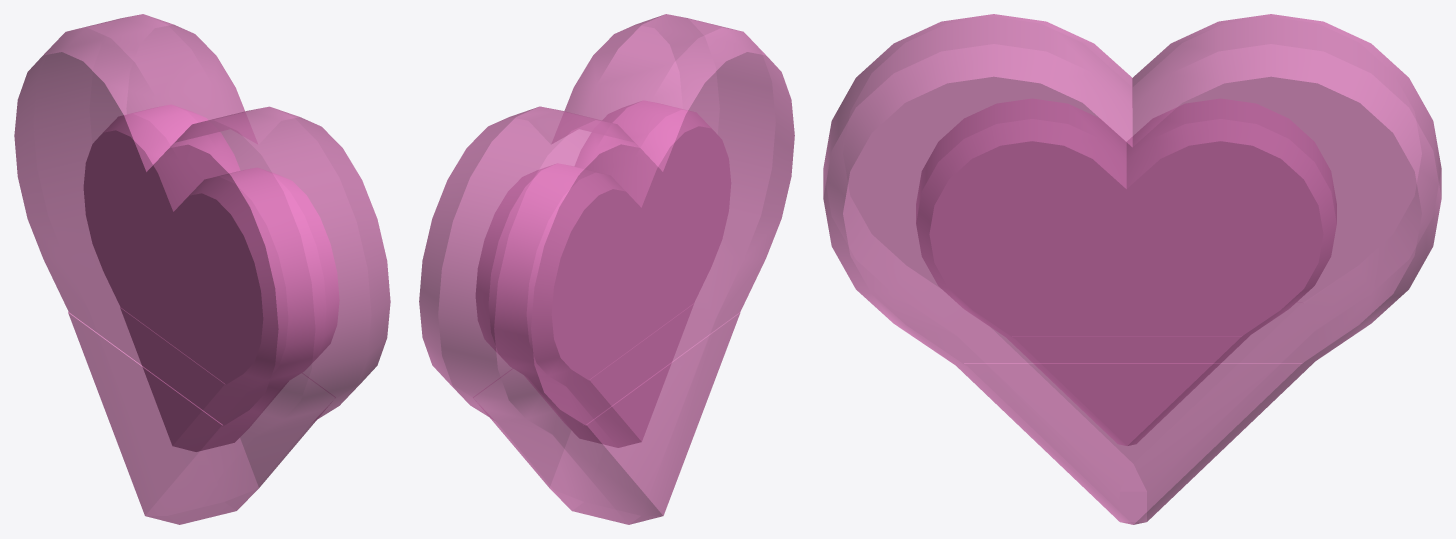
The model's file is Heart Spell.fbx.
3 renders of one model, left to right at view 1: azimuth 30°, elevation 25°; view 2: azimuth 150°, elevation 25°; view 3: azimuth 270°, elevation 25°, orthographic. The views are drawn at different scales.
Parts seen in each view (by area): view 1: polySurface9, pasted__polySurface9; view 2: polySurface9, pasted__polySurface9; view 3: polySurface9, pasted__polySurface9.
Part boxes in pixels (left/top/right/bottom): polySurface9: left=14, top=14, right=390, bottom=524; pasted__polySurface9: left=84, top=104, right=339, bottom=451; polySurface9: left=419, top=14, right=794, bottom=524; pasted__polySurface9: left=476, top=100, right=730, bottom=447; polySurface9: left=823, top=14, right=1441, bottom=524; pasted__polySurface9: left=916, top=98, right=1336, bottom=445.
Bounding box in the file's own units: 0.6124 × 2.24 × 2.62.
